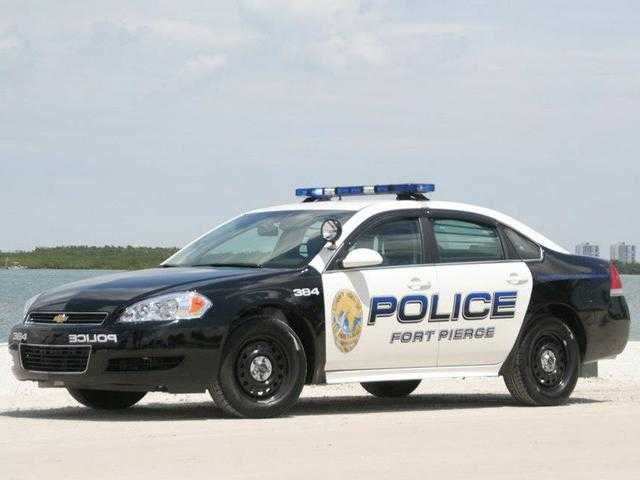Police Car: (20, 168, 640, 423)
